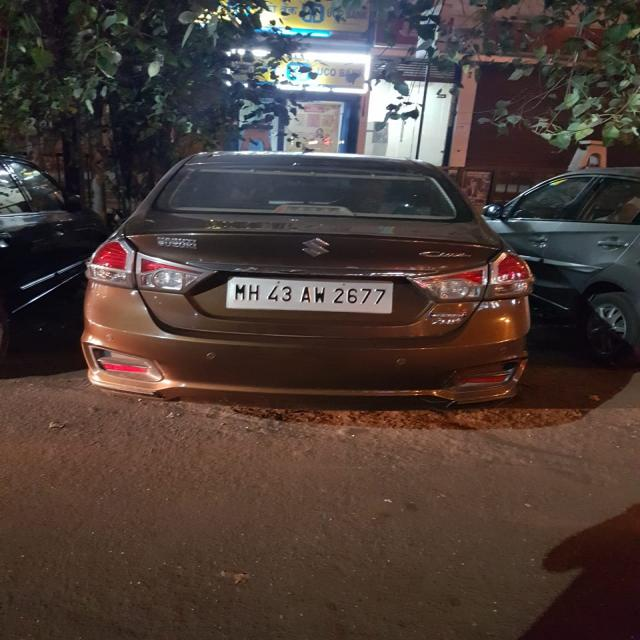Number-Plate: (233, 277, 387, 312)
